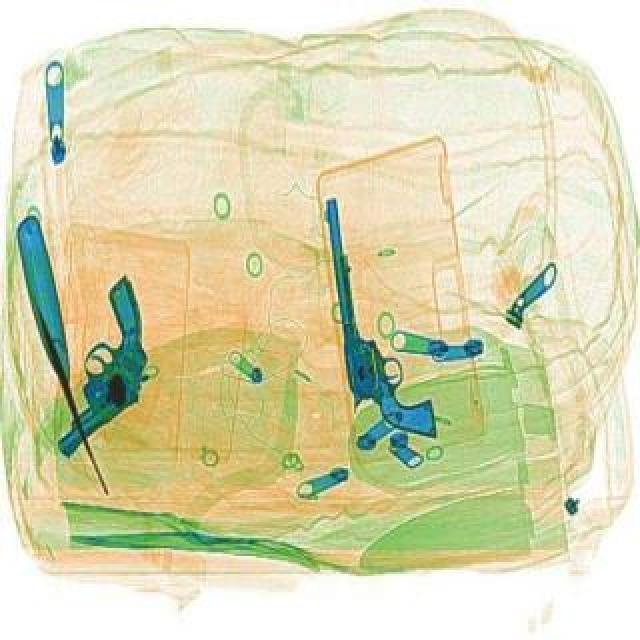gun: (0, 272, 196, 444), (320, 188, 438, 442)
knife: (0, 214, 124, 498)
